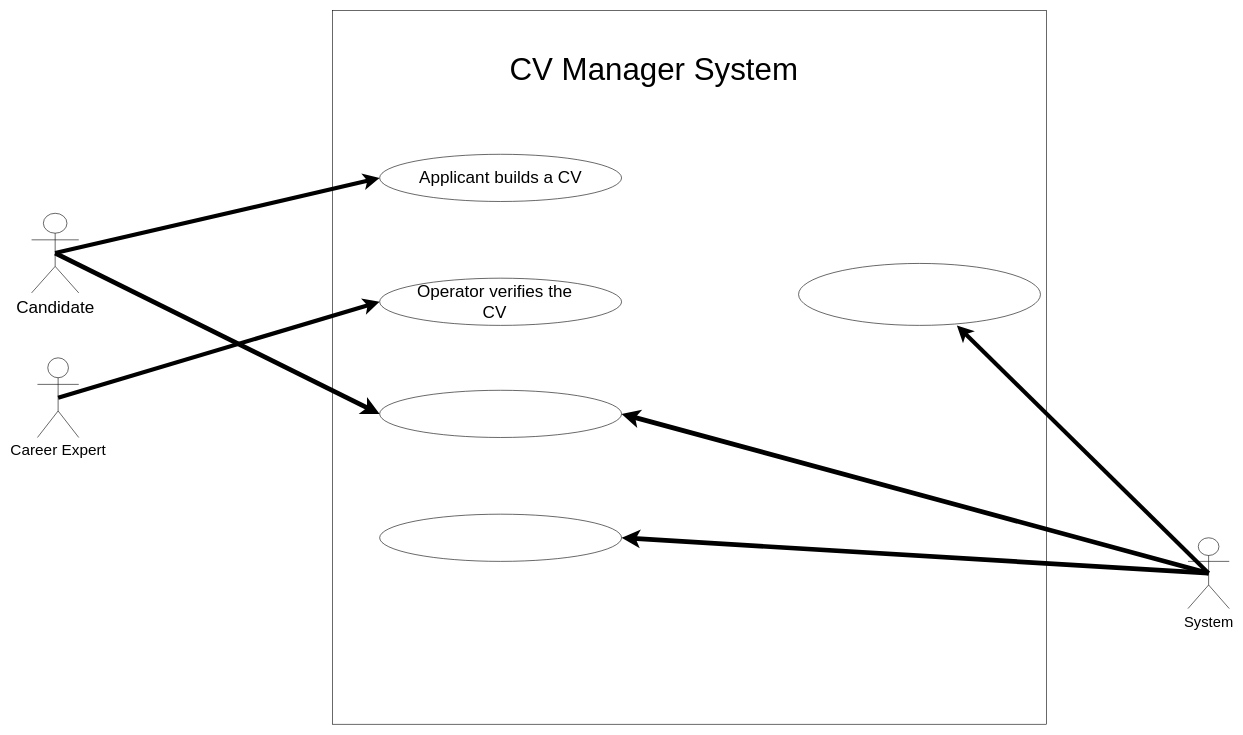
This 1243x735 diagram has some shape labels left out. Each missing label, with the centre of its shape:
System provides weekly job opportunities: [919,294]
System sends CV: [500,537]
System tests the Applicant: [500,413]
